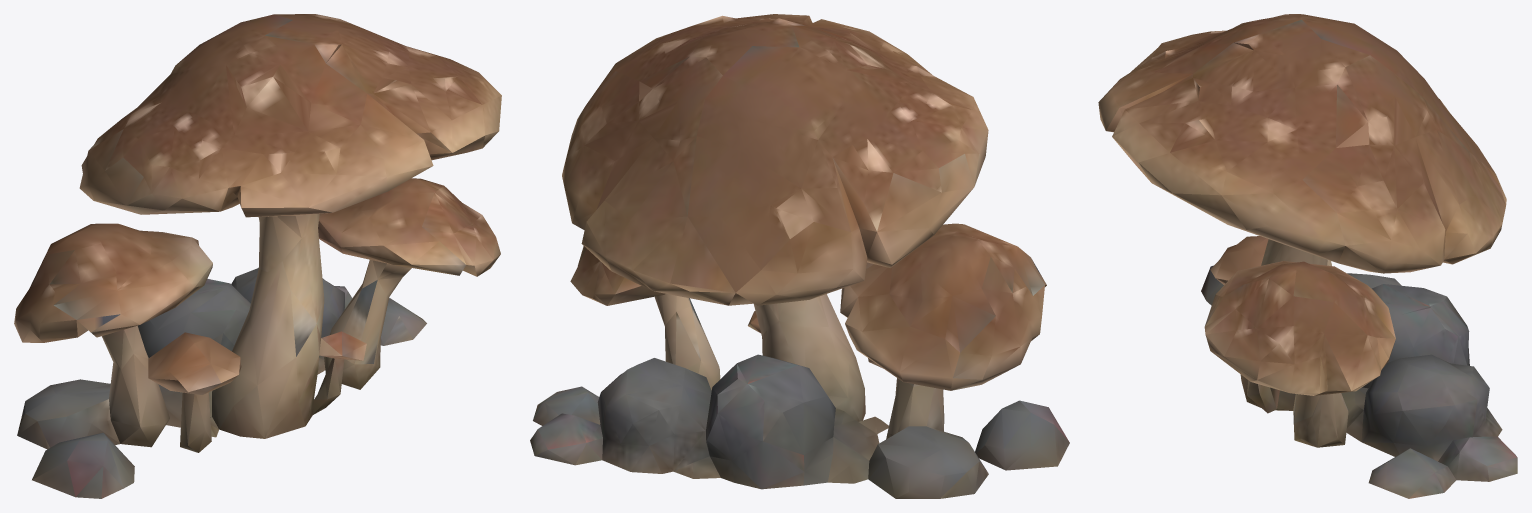
The model's file is setas_marrones.glb.
The picture shows the model from 3 angles, left to right: view 1: azimuth 30°, elevation 25°; view 2: azimuth 150°, elevation 25°; view 3: azimuth 270°, elevation 25°; orthographic projection.
Parts seen in each view (by area): view 1: setas_marrones_malla; view 2: setas_marrones_malla; view 3: setas_marrones_malla.
Boxes of the visible parts, x1,y1,x2,y2 form: setas_marrones_malla: (14,14,501,498); setas_marrones_malla: (530,14,1069,498); setas_marrones_malla: (1098,14,1517,498).
Bounding box in the file's own units: 0.2531 × 0.1942 × 0.1961.
1 material, 1 textured.
